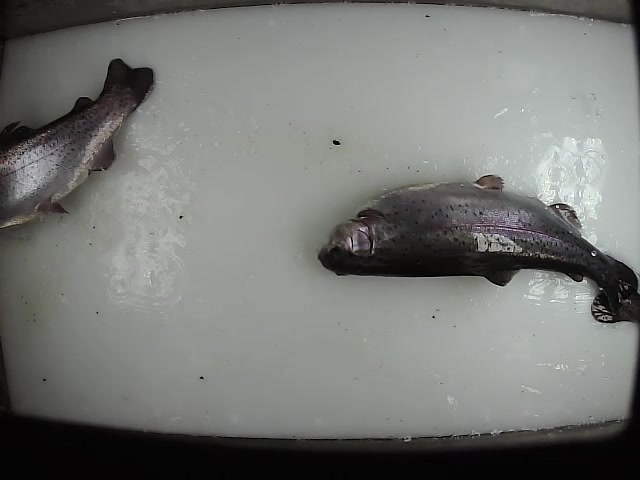fish: (316, 167, 639, 324), (1, 54, 157, 228)
